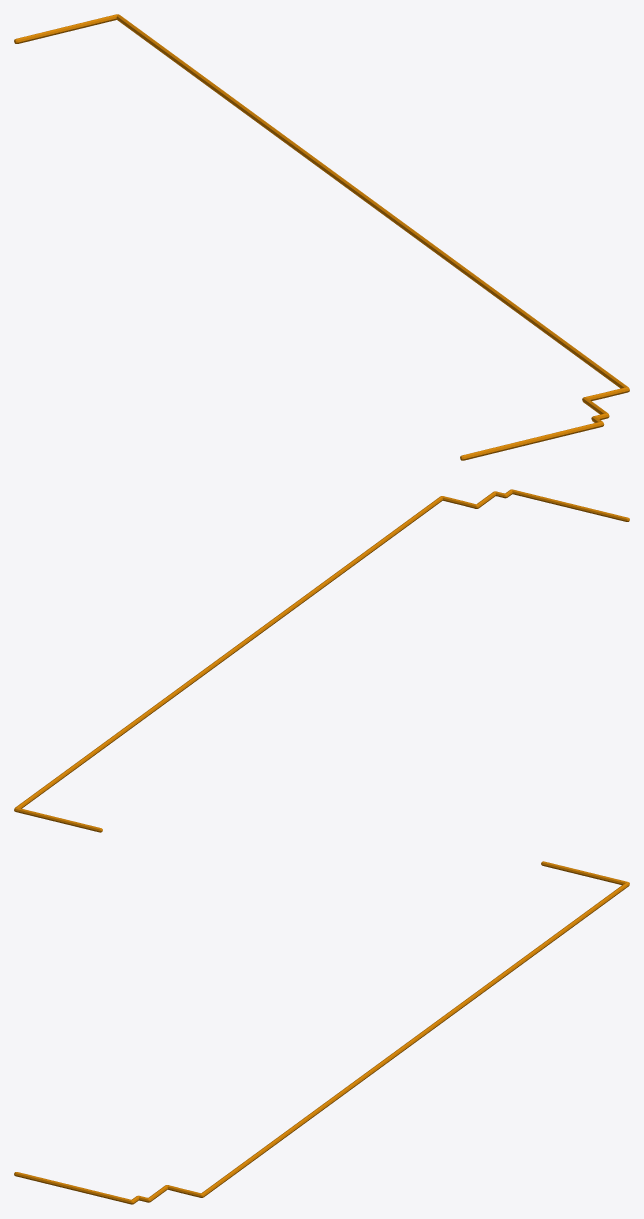
3 views of the same model, one above another, from view 1: azimuth 30°, elevation 25°; view 2: azimuth 150°, elevation 25°; view 3: azimuth 330°, elevation 25° (orthographic). The views are drawn at different scales.
Bounding box in the file's own units: 786 × 20 × 3718.
